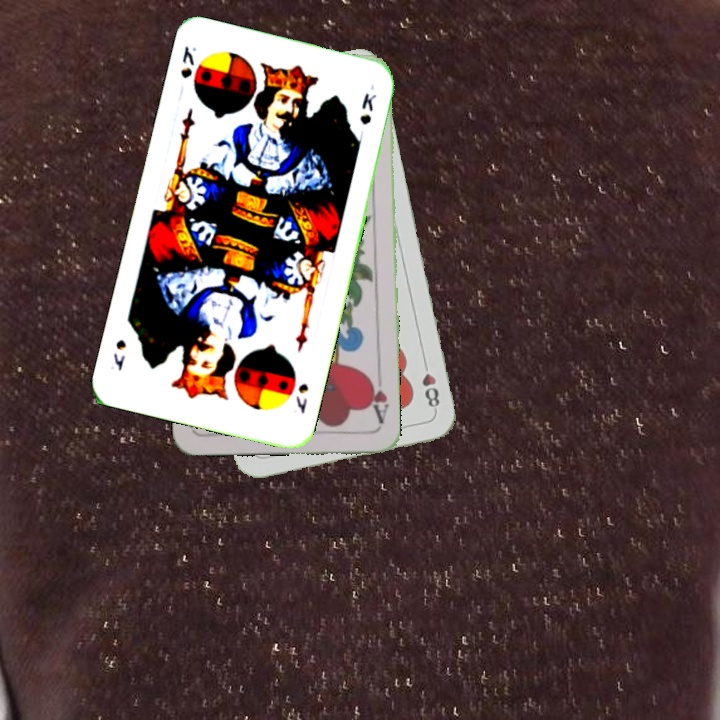H8: (418, 356, 442, 414)
HA: (364, 368, 392, 426)
SK: (176, 41, 199, 81), (292, 379, 311, 416)
